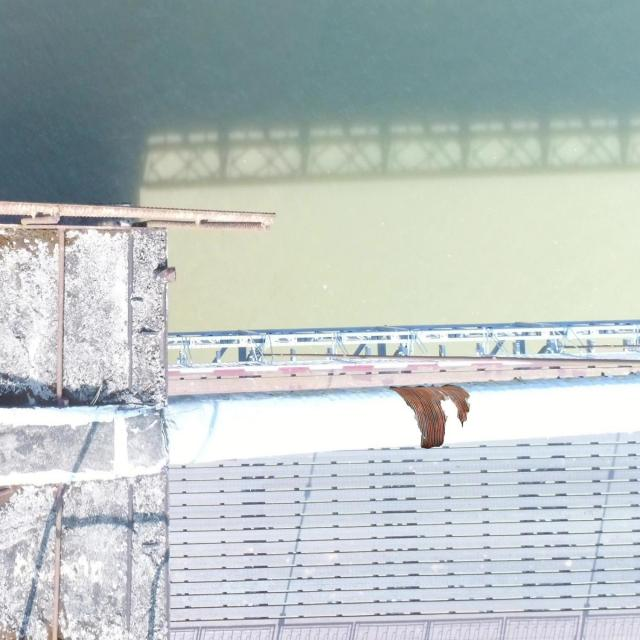corrosion: (390, 380, 471, 449)
